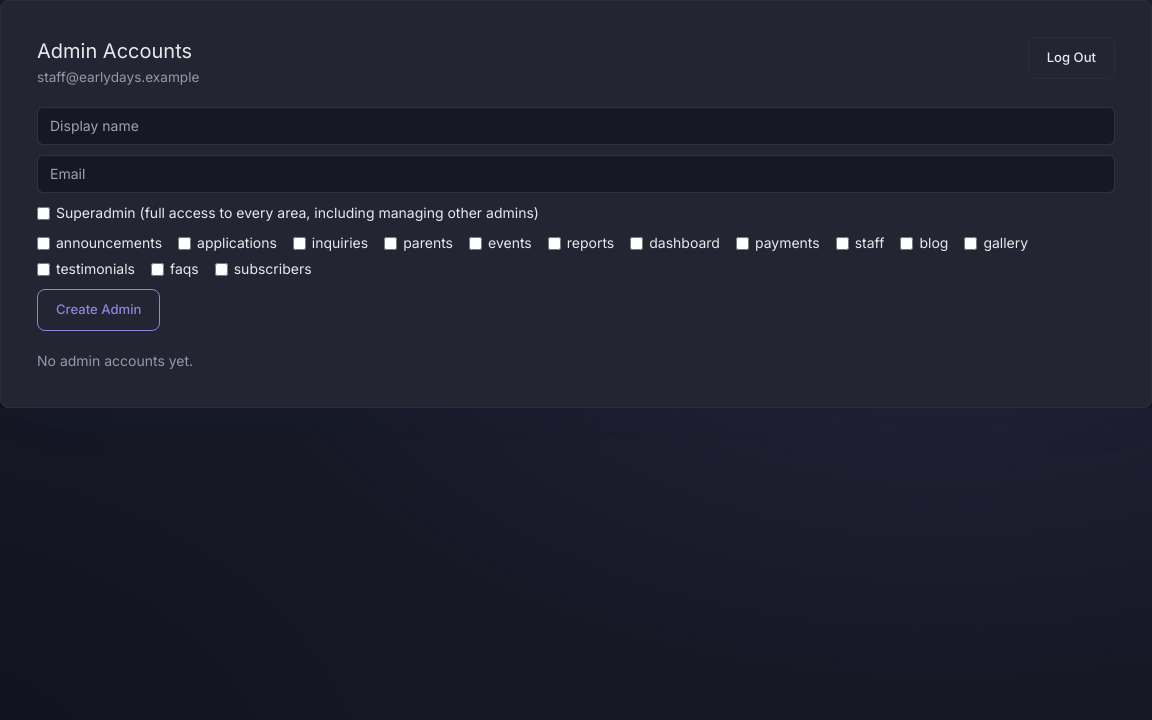
Test: AdminAccessList › shows an error and keeps the form filled in when create fails
expect the text "No admin accounts yet." is shown: met, box 37,352 -> 193,369
Type "New Admin" into the field with placeholder "Display name" at (576, 126), box 37,107 -> 1115,145
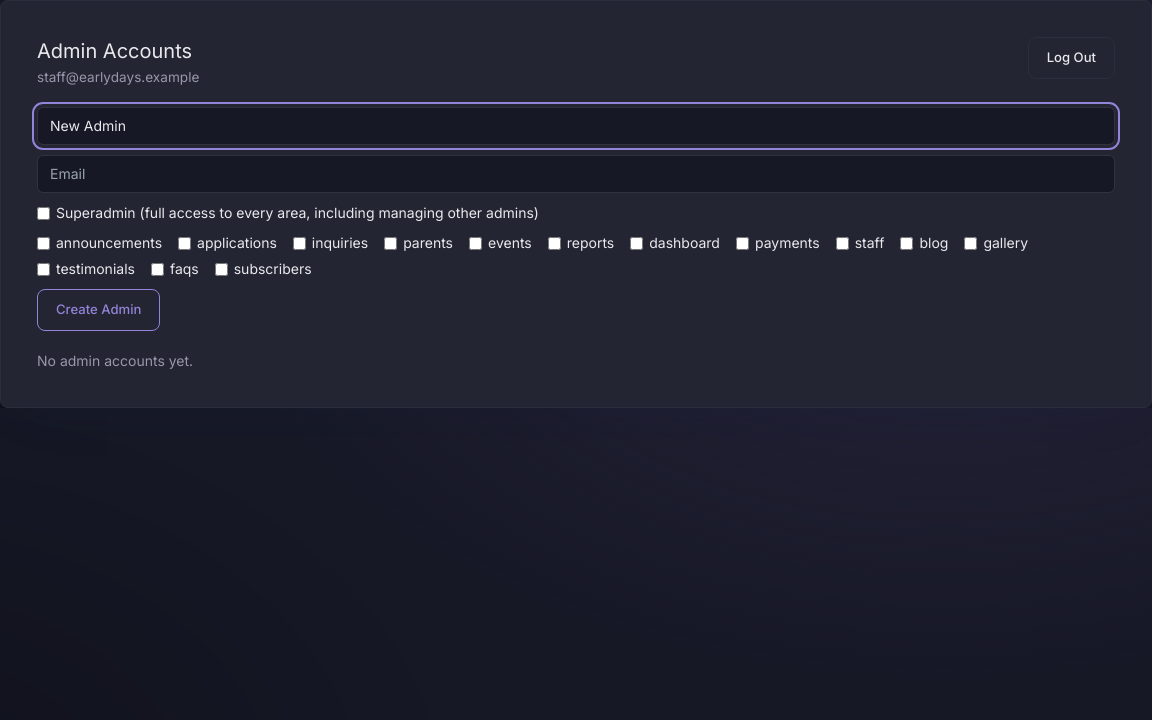
Type "new@example.com" into the field with placeholder "Email" at (576, 174), box 37,155 -> 1115,193
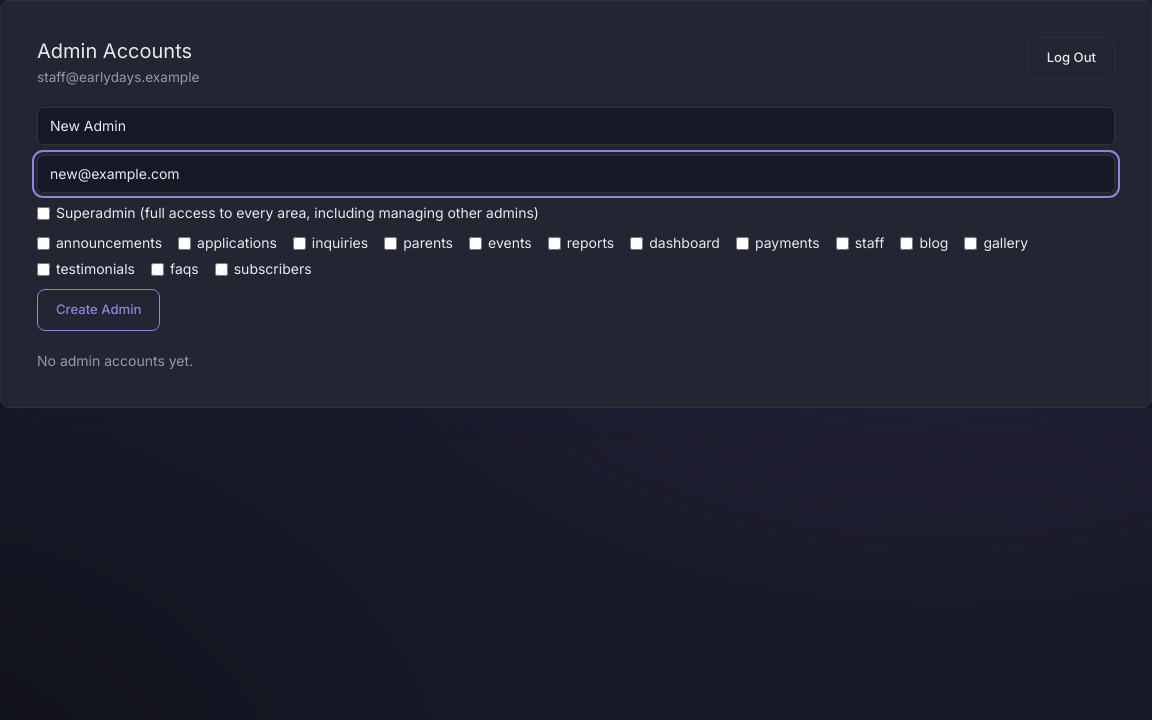
Click the button "Create Admin" at (99, 310), box 37,289 -> 160,331
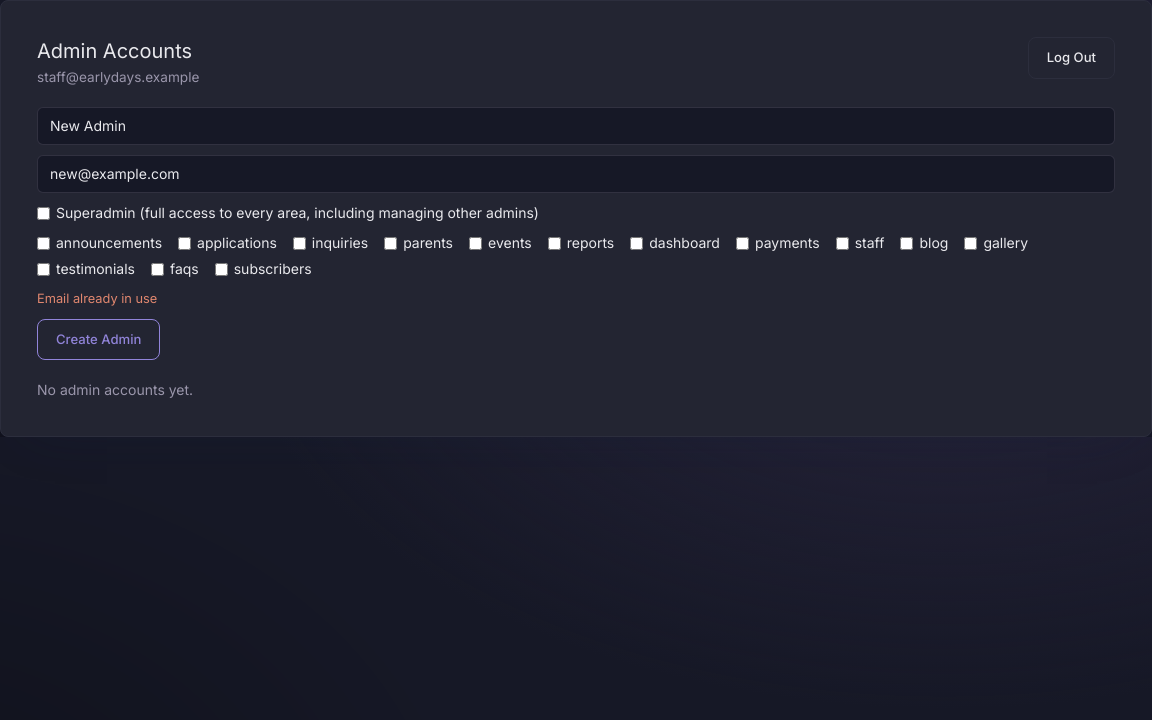
expect the text "Email already in use" is shown: met, box 37,291 -> 157,306
